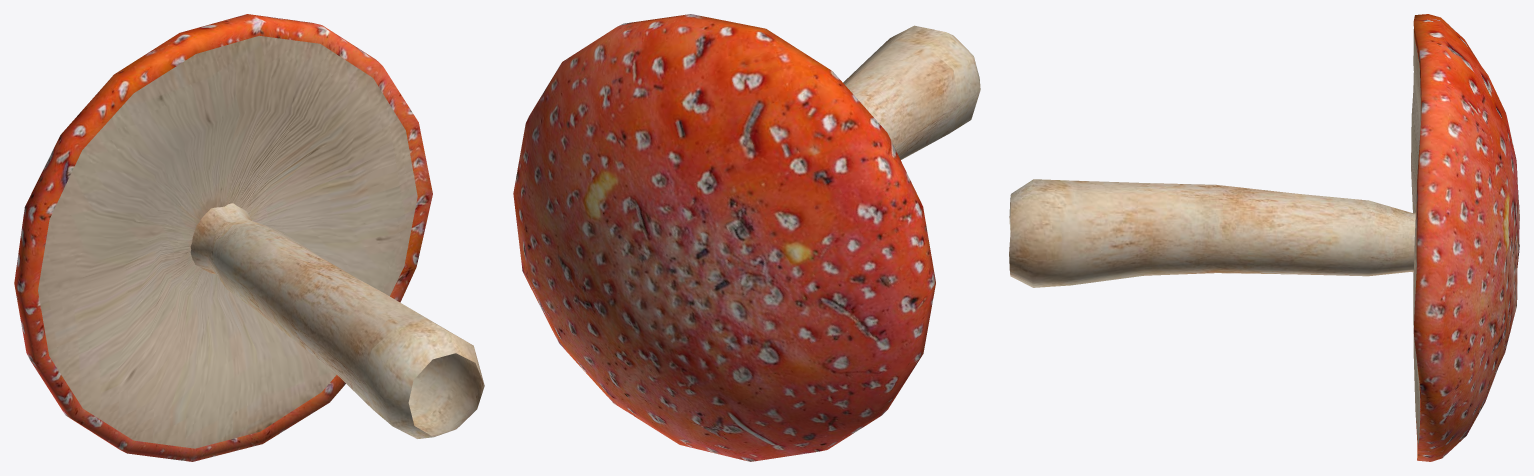
Rendered from mushroom_compressed.glb.
3 renders of one model, left to right at view 1: azimuth 30°, elevation 25°; view 2: azimuth 150°, elevation 25°; view 3: azimuth 270°, elevation 25°, orthographic. The views are drawn at different scales.
Parts seen in each view (by area): view 1: mushroom; view 2: mushroom; view 3: mushroom.
Part boxes in pixels (bbox=[...]): mushroom: bbox=[14, 14, 484, 461]; mushroom: bbox=[513, 14, 980, 461]; mushroom: bbox=[1009, 14, 1519, 461].
Size of the model in its own units: 0.9184 by 0.9063 by 1.05.
Materials: 2 (2 with a texture image).
